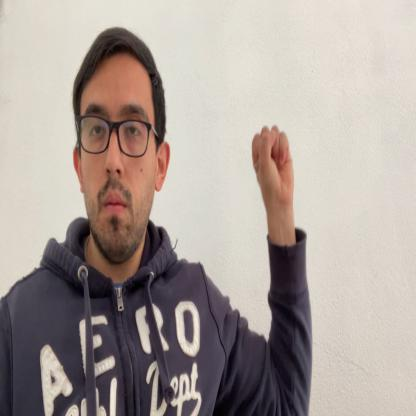S: (252, 125, 294, 209)
